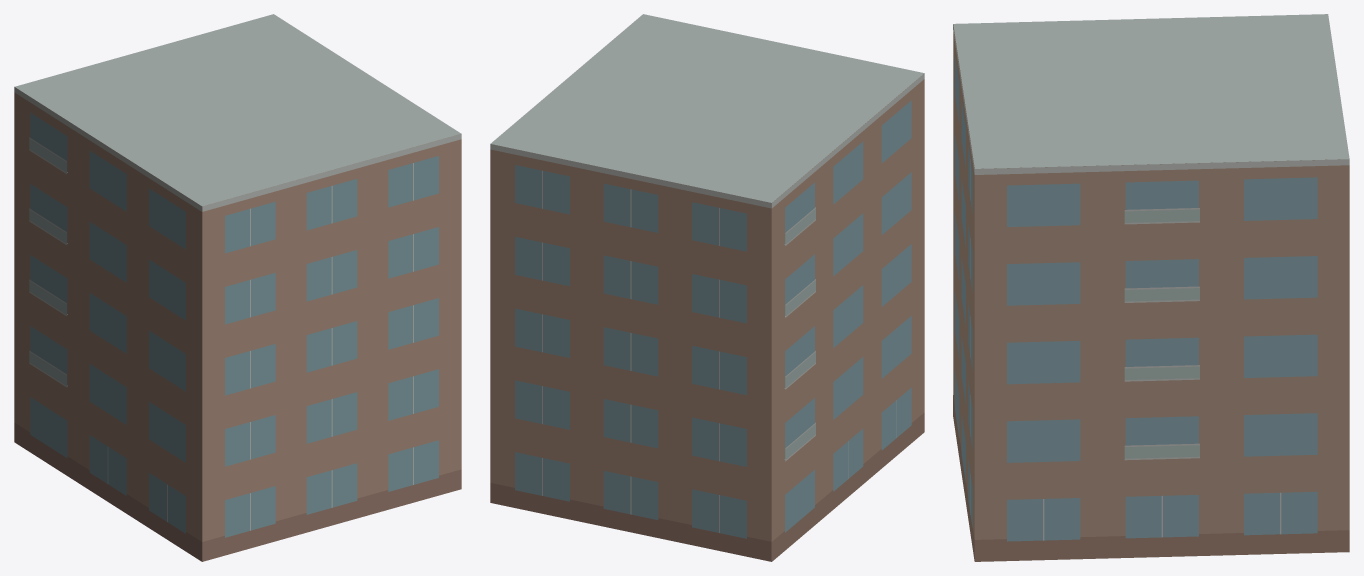
File: survey-upis-32737603.glb
3 renders of one model, left to right at view 1: azimuth 30°, elevation 25°; view 2: azimuth 150°, elevation 25°; view 3: azimuth 270°, elevation 25°, orthographic. The views are drawn at different scales.
Parts seen in each view (by area): view 1: survey-upis-32737603.tmp; view 2: survey-upis-32737603.tmp; view 3: survey-upis-32737603.tmp.
Boxes of the visible parts, left/top/right/bottom form: survey-upis-32737603.tmp: left=14, top=14, right=461, bottom=561; survey-upis-32737603.tmp: left=490, top=14, right=924, bottom=561; survey-upis-32737603.tmp: left=953, top=14, right=1349, bottom=561.
Bounding box in the file's own units: 13.29 × 15.7 × 14.37.
